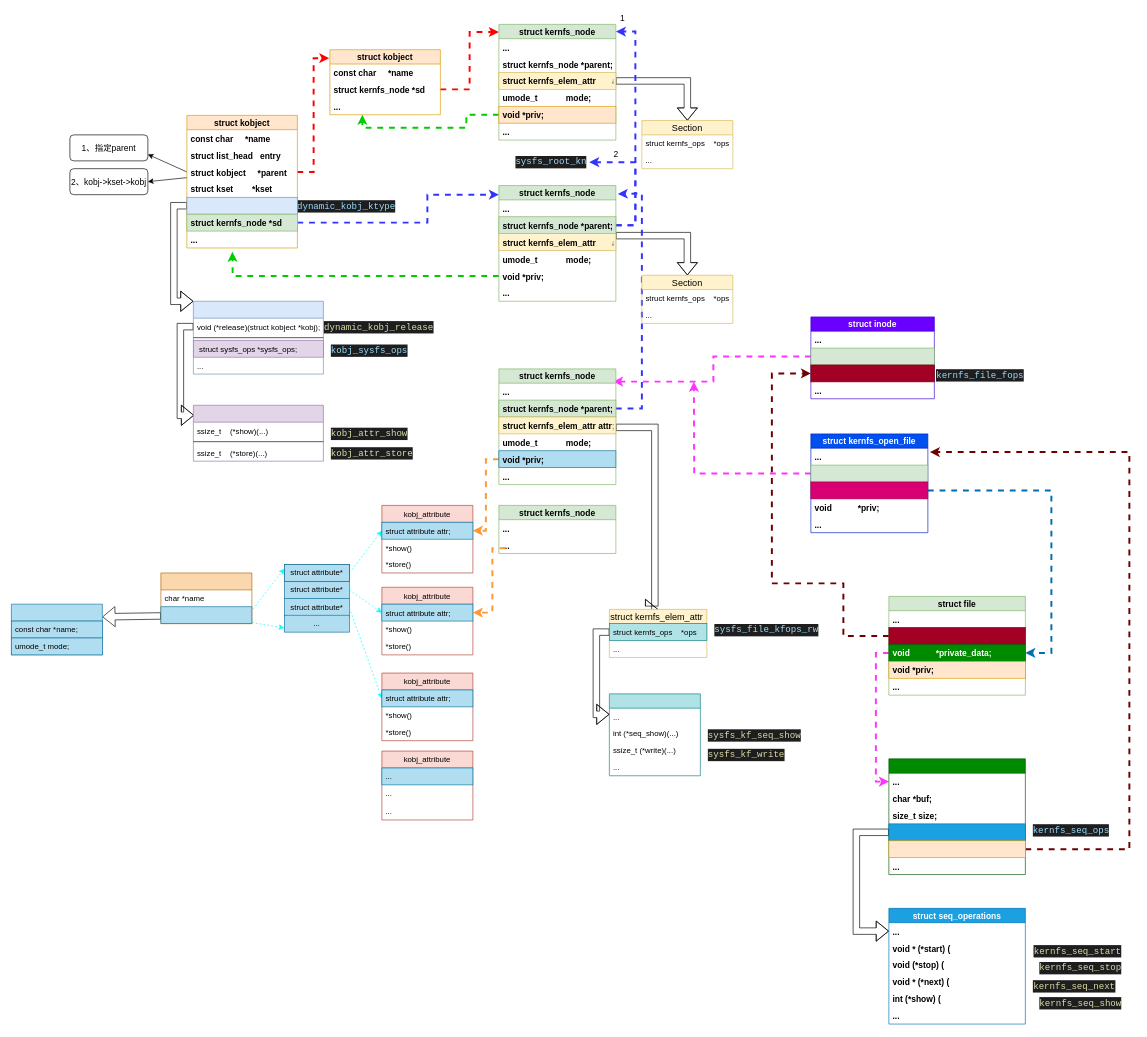
The diagram is 1147 pixels wide and 1037 high, and some of its shapes have lost their labels. The shapes that lost their labels are listed below. From the top down, each one's box as (x1, y1, x2, y2) in pixels, then its label:
(186, 197, 297, 214): struct kobj_type *ktype;
(193, 301, 323, 374): struct kobj_type
(810, 347, 934, 365): void *i_private
(810, 364, 934, 382): struct file_operations *i_fop
(193, 405, 323, 461): struct sysfs_ops
(810, 464, 928, 482): struct kernfs_node *kn;
(810, 481, 928, 499): struct seq_file *seq_file;
(160, 572, 252, 624): attribute_group
(160, 606, 252, 624): struct attribute **attrs
(11, 604, 102, 655): attribute
(888, 627, 1025, 644): struct file_operations *f_op;
(609, 693, 700, 776): struct kernfs_ops
(888, 758, 1025, 875): struct seq_file
(888, 823, 1025, 841): struct seq_operations *op
(888, 840, 1025, 858): void *private;
